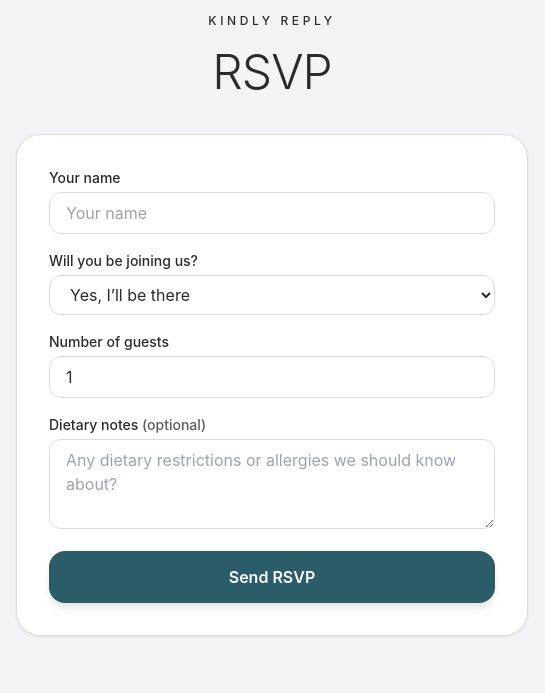
Test: RsvpSection › shows guest-safe submit copy when section RSVP save fails
In the field with placeholder "Your name": {"x": 272, "y": 213} [49,192,495,234], type "Taylor Guest"
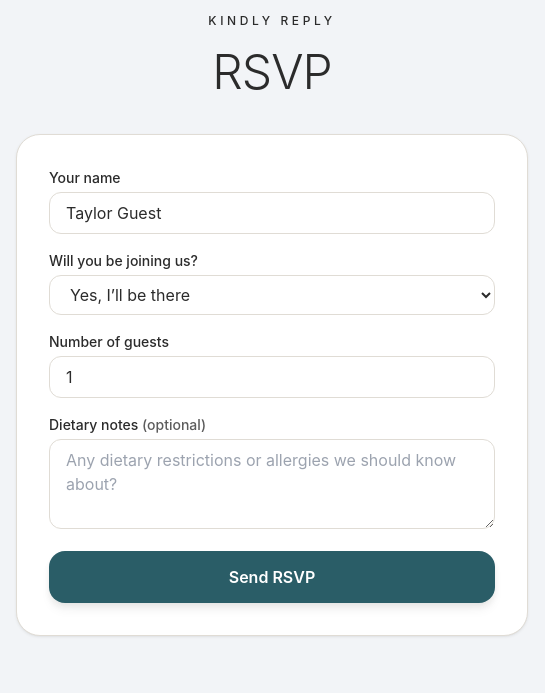
Click the button "Send RSVP": {"x": 272, "y": 577} [49,551,495,603]
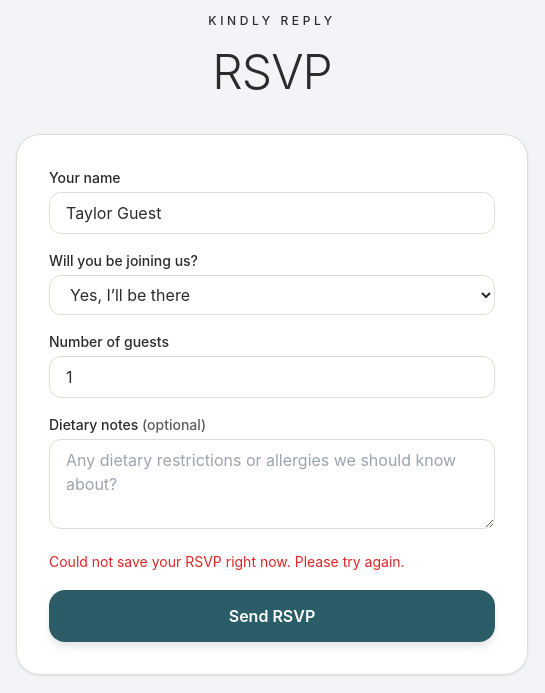
Check: the text "Could not save your RSVP right now. Please try again." is shown, box [49,553,405,570]
